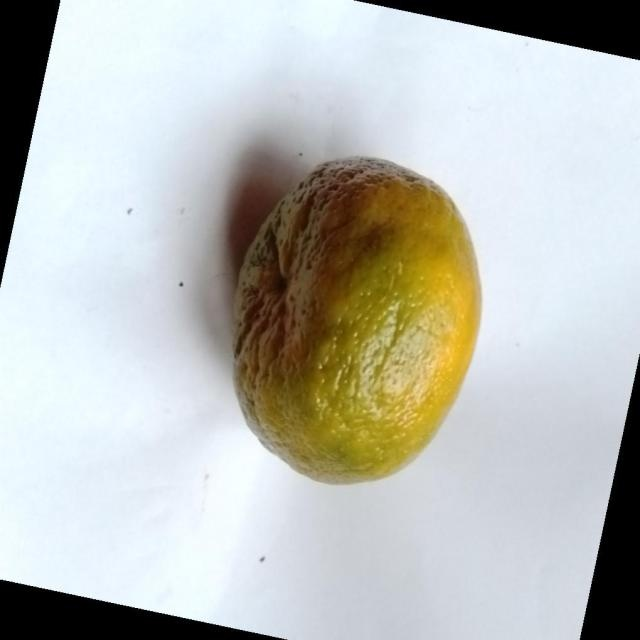agrume: (230, 154, 482, 486)
